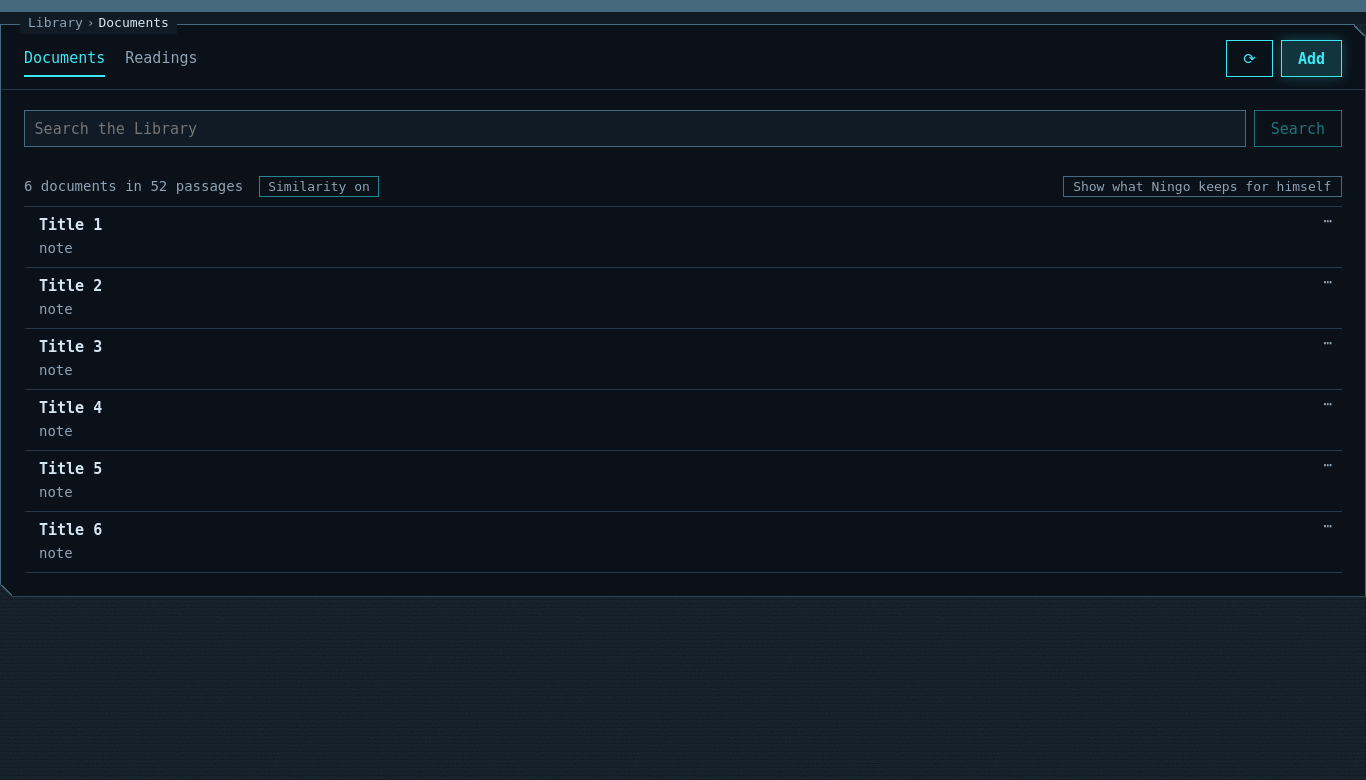
what a search finds › takes the list's place under the same line, and says how many passages answer what was asked
The image size is (1366, 780).
Expected: the text "Title 1" is shown, [39,216,102,234]
Type "  boredom " into the search field.
click(635, 129); type("  boredom ")  # box [24,110,1246,147]
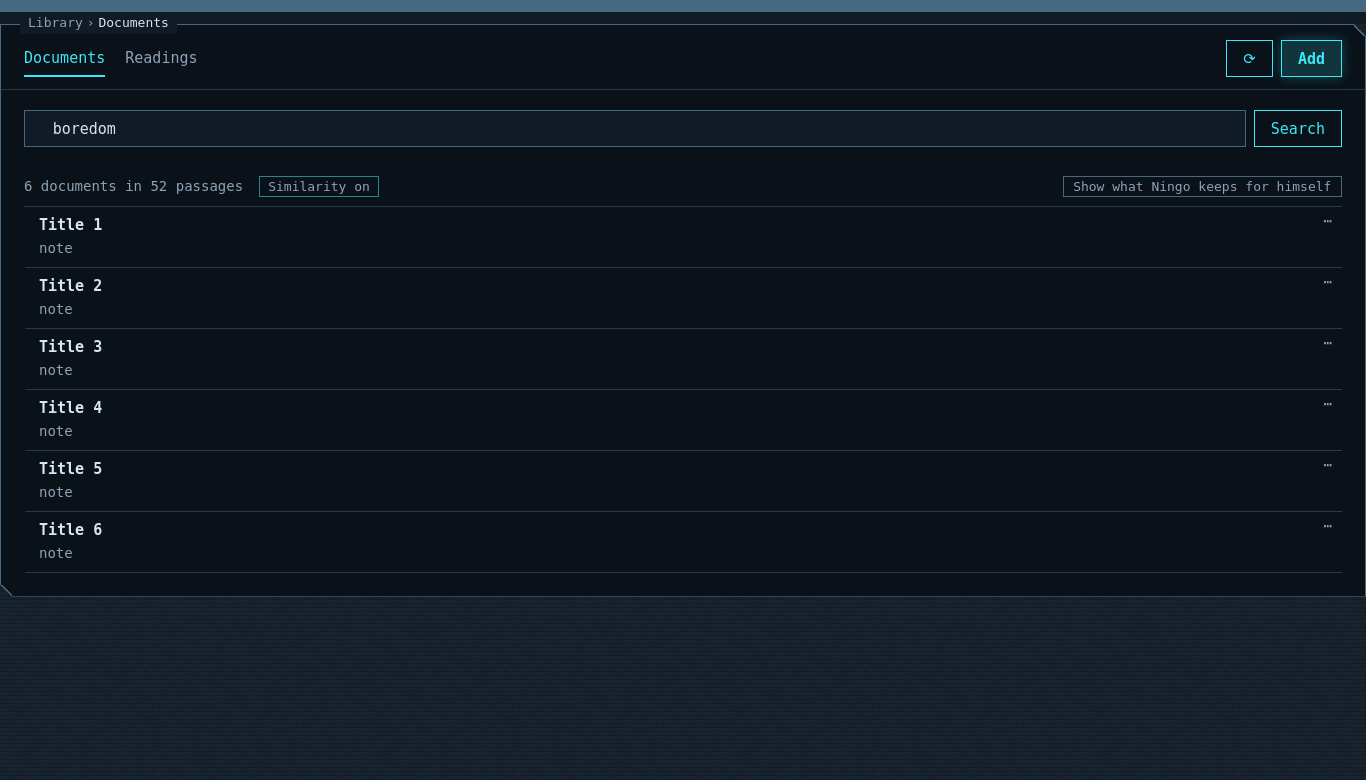
Click the button "Search".
click(1298, 129)  # box [1254,110,1342,147]
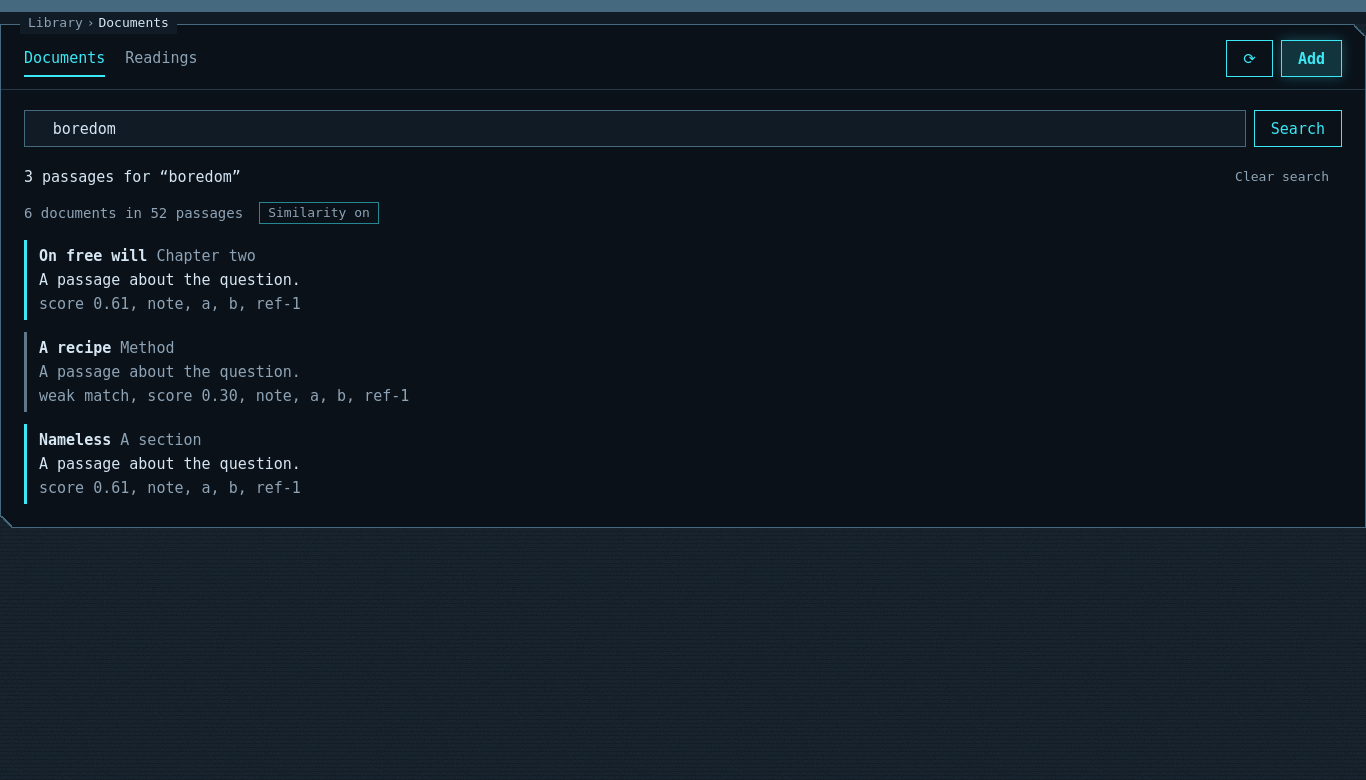
Expected: the text "3 passages for “boredom”" is shown, [24,165,241,189]
Expected: the button "Title 1" is gone
Expected: the button "Show what Ningo keeps for himself" is gone
